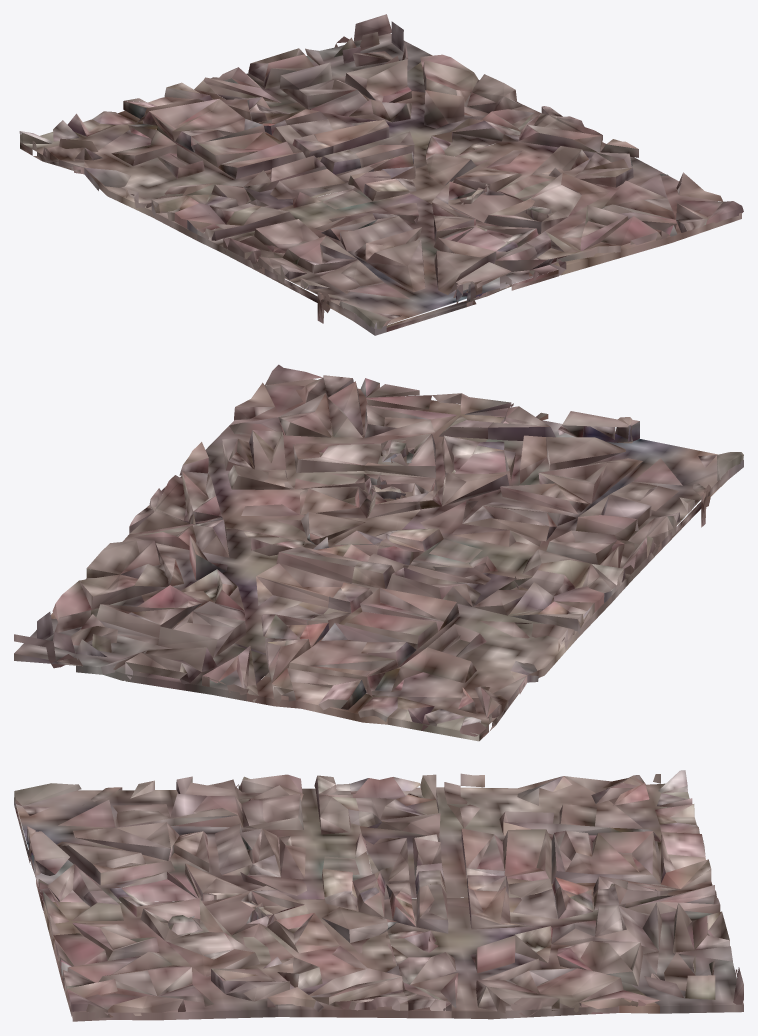
3 views of the same model, one above another, from view 1: azimuth 30°, elevation 25°; view 2: azimuth 150°, elevation 25°; view 3: azimuth 270°, elevation 25° (orthographic). The views are drawn at different scales.
Parts seen in each view (by area): view 1: Mesh_0; view 2: Mesh_0; view 3: Mesh_0.
Part boxes in pixels (x1,y1,x2,y2): Mesh_0: [19, 14, 743, 335]; Mesh_0: [14, 364, 743, 741]; Mesh_0: [14, 770, 743, 1021].
Bounding box in the file's own units: 1085 × 105 × 1318.
Materials: 2 (2 with a texture image).
